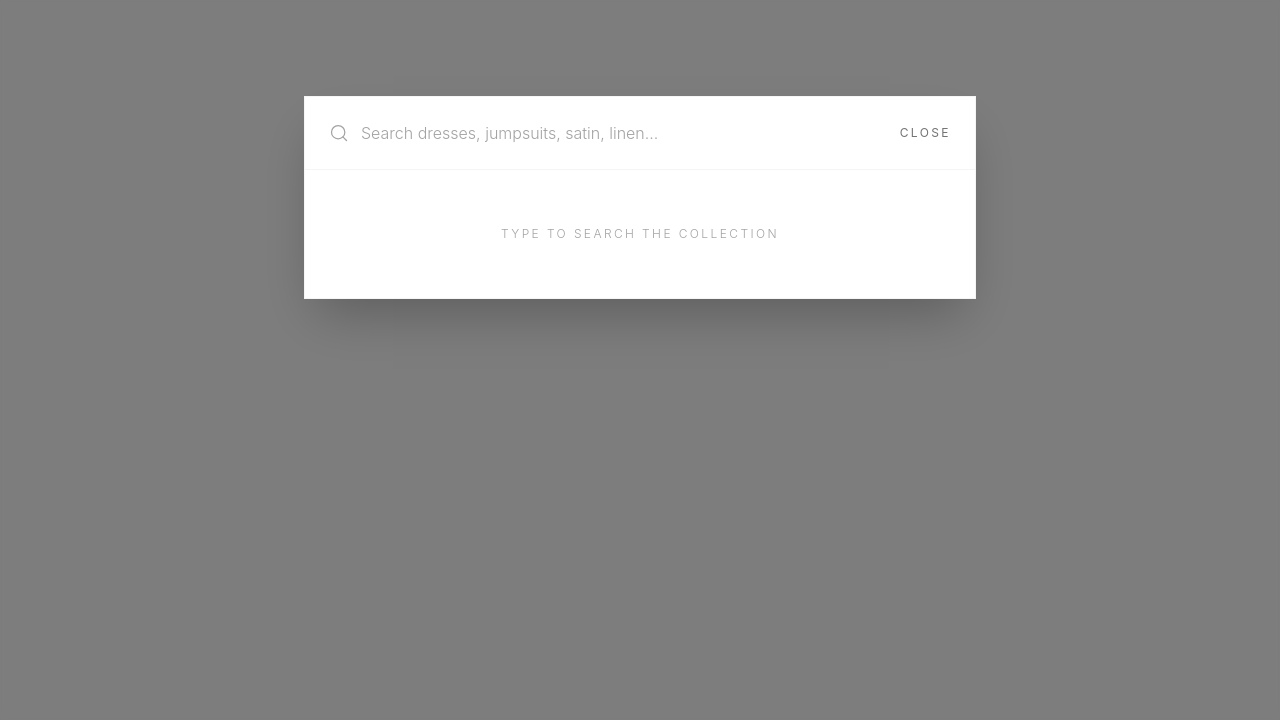
it: Tier 1: Feature Coverage - SearchModal Component › filters products instantly as user types query
The width and height of the screenshot is (1280, 720).
Type "linen" into the field with test id "search-input" at (624,133), box left=361, top=121, right=888, bottom=145
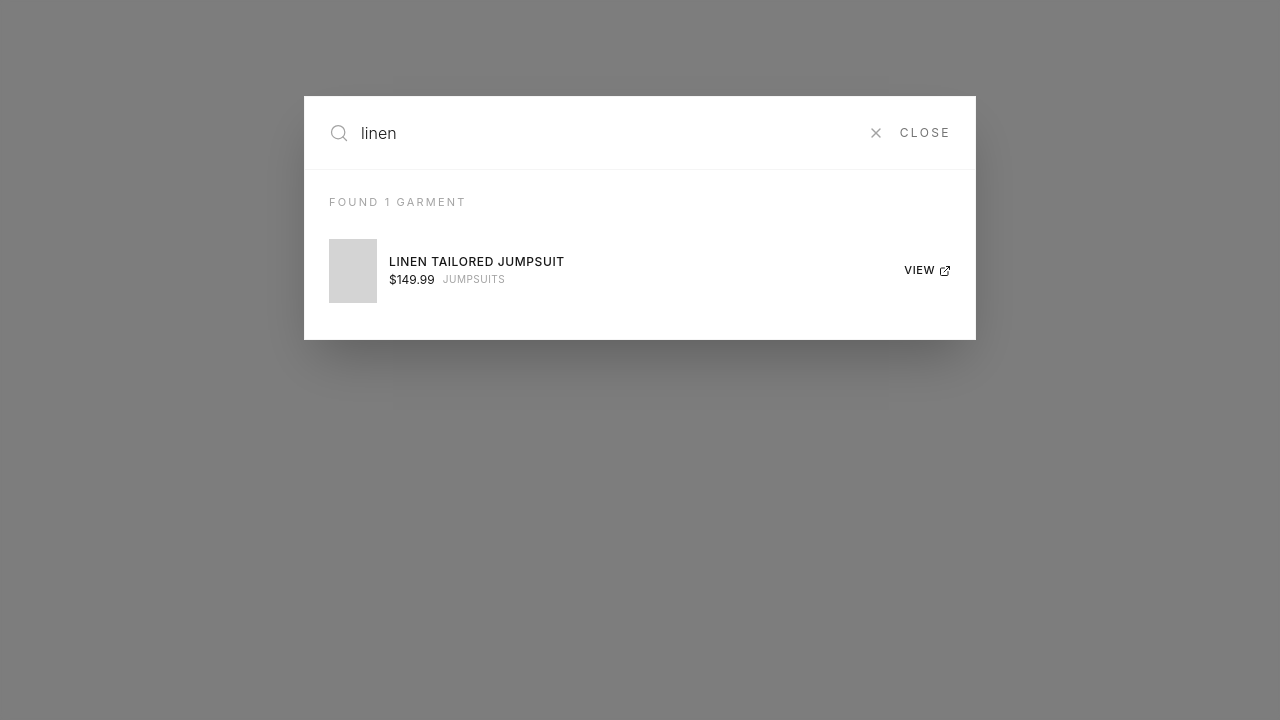
Expected: the heading "Linen tailored jumpsuit" is shown, left=389, top=254, right=565, bottom=270
Expected: the text "Found 1 garment" is shown, left=329, top=195, right=467, bottom=209
